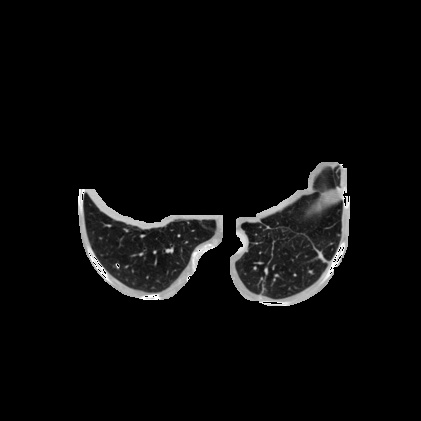PN: (115, 263, 119, 267)
